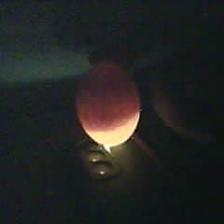fertile: (74, 62, 140, 147)
